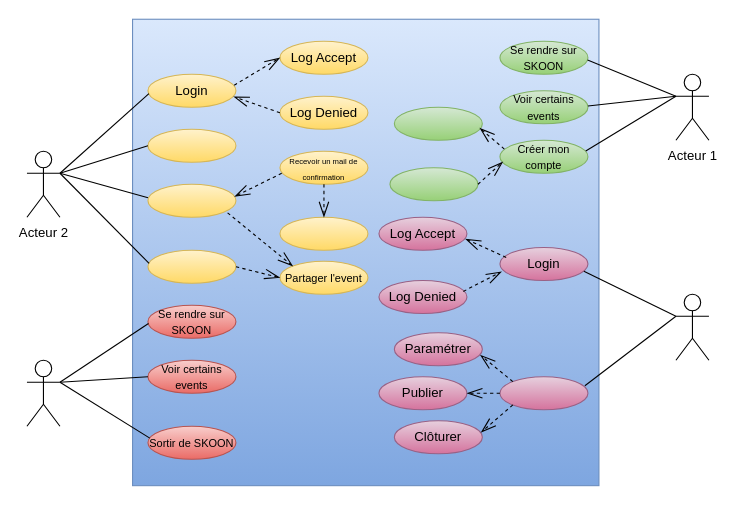
This 736x505 diagram has some shape labels left out. Here are the shapes that lost their labels. From the top down, the centre of each, then its label:
At point 437,123: "Paramétrer mon compte".
At point 191,145: "Accéder aux events".
At point 191,200: "S'inscrire à un event".
At point 433,184: "Recevoir un mail de confirmation inscription".
At point 323,233: "S'afficher dans agenda".
At point 191,266: "Obtenir des infos sur l'event".
At point 692,326: "Acteur 3".
At point 43,392: "Acteur 4".
At point 543,393: "Créer un event".
